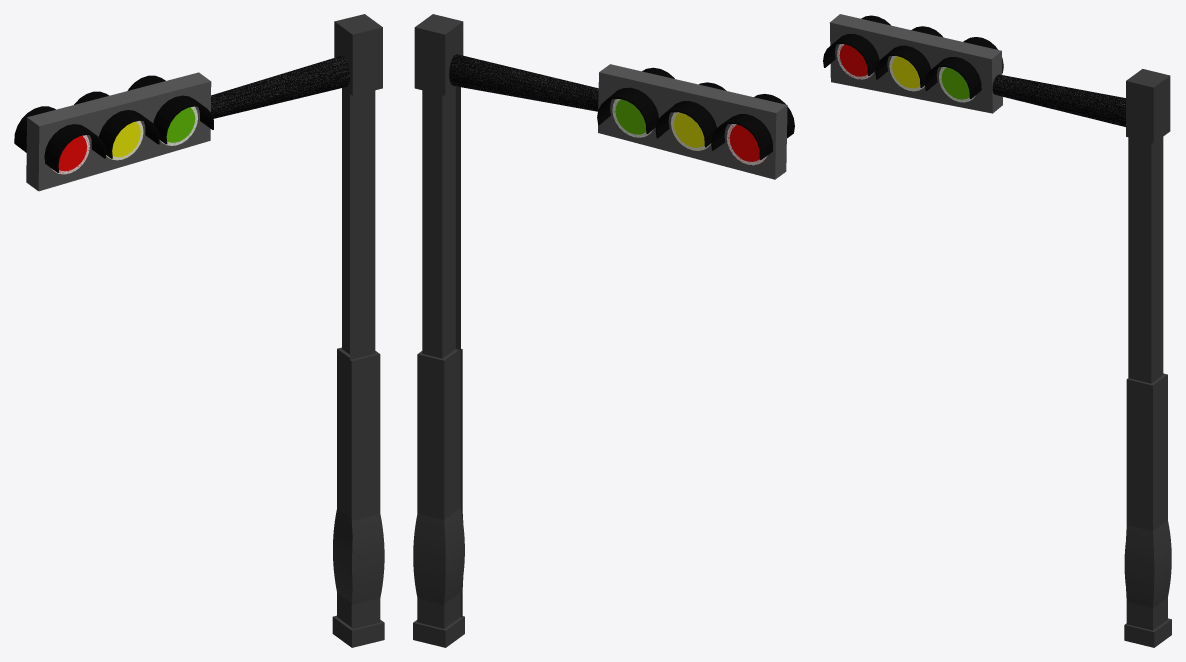
The model's file is traffic_light.dae.
The picture shows the model from 3 angles, left to right: view 1: azimuth 30°, elevation 25°; view 2: azimuth 150°, elevation 25°; view 3: azimuth 330°, elevation 25°; orthographic projection. The views are drawn at different scales.
Visible parts, largest first — view 1: group_0 (×7), group_1 (×3); view 2: group_0 (×4), group_2 (×2), group_4 (×2), group_3 (×2); view 3: group_0 (×5), group_1 (×3).
Boxes of the visible parts, <box> form: group_0 (×7): <box>26,14,384,647</box>; group_1 (×3): <box>58,107,195,171</box>; group_0 (×4): <box>413,14,787,647</box>; group_2 (×2): <box>711,114,772,161</box>; group_4 (×2): <box>597,87,658,134</box>; group_3 (×2): <box>655,101,716,147</box>; group_0 (×5): <box>823,14,1171,647</box>; group_1 (×3): <box>839,44,969,99</box>.
Size of the model in its own units: 121 by 25.32 by 203.
